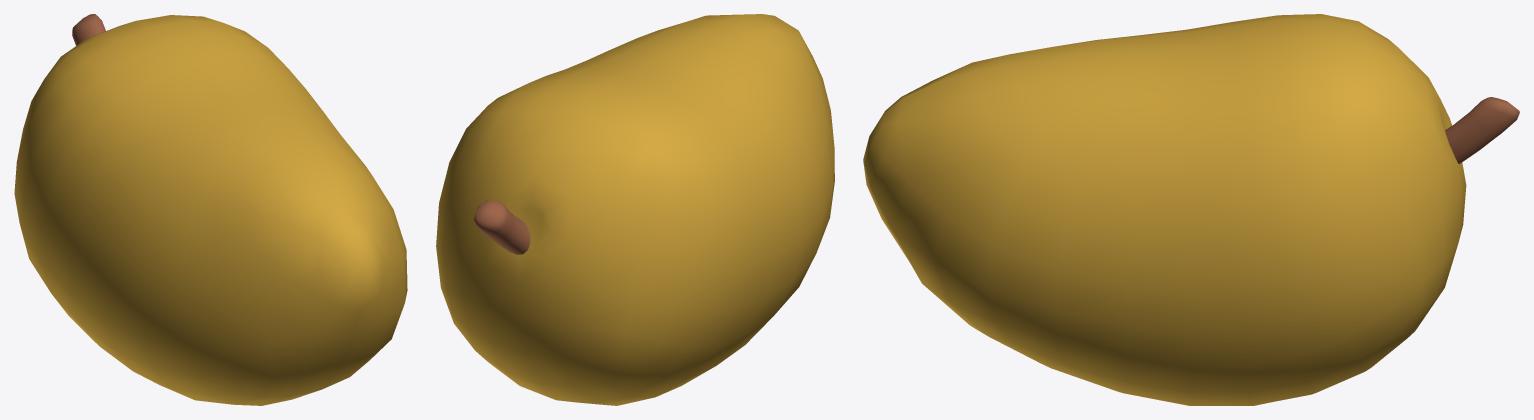
The model's file is Mango_02.dae.
3 renders of one model, left to right at view 1: azimuth 30°, elevation 25°; view 2: azimuth 150°, elevation 25°; view 3: azimuth 270°, elevation 25°, orthographic. The views are drawn at different scales.
Visible parts, largest first — view 1: Mango_02_LOD0; view 2: Mango_02_LOD0; view 3: Mango_02_LOD0.
Part boxes in pixels (x1=…): Mango_02_LOD0: x1=14, y1=14, x2=407, y2=405; Mango_02_LOD0: x1=436, y1=14, x2=834, y2=405; Mango_02_LOD0: x1=863, y1=14, x2=1519, y2=405.
Size of what is drawn, in the model's own units: 3.24 by 5.89 by 3.47.
